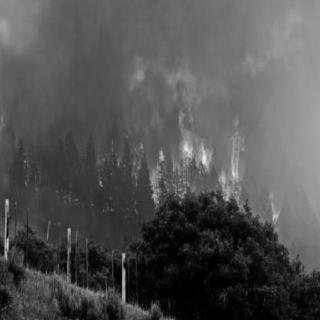Fire: (134, 103, 290, 221)
